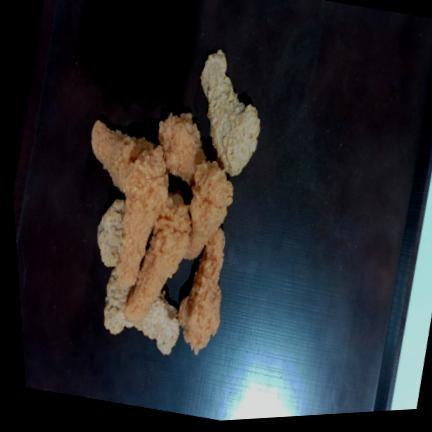chicken: (125, 196, 191, 321), (201, 50, 260, 176), (118, 149, 169, 286), (104, 270, 179, 355), (179, 227, 225, 354), (186, 162, 233, 259), (92, 120, 154, 193), (159, 113, 206, 184), (98, 199, 125, 267)
